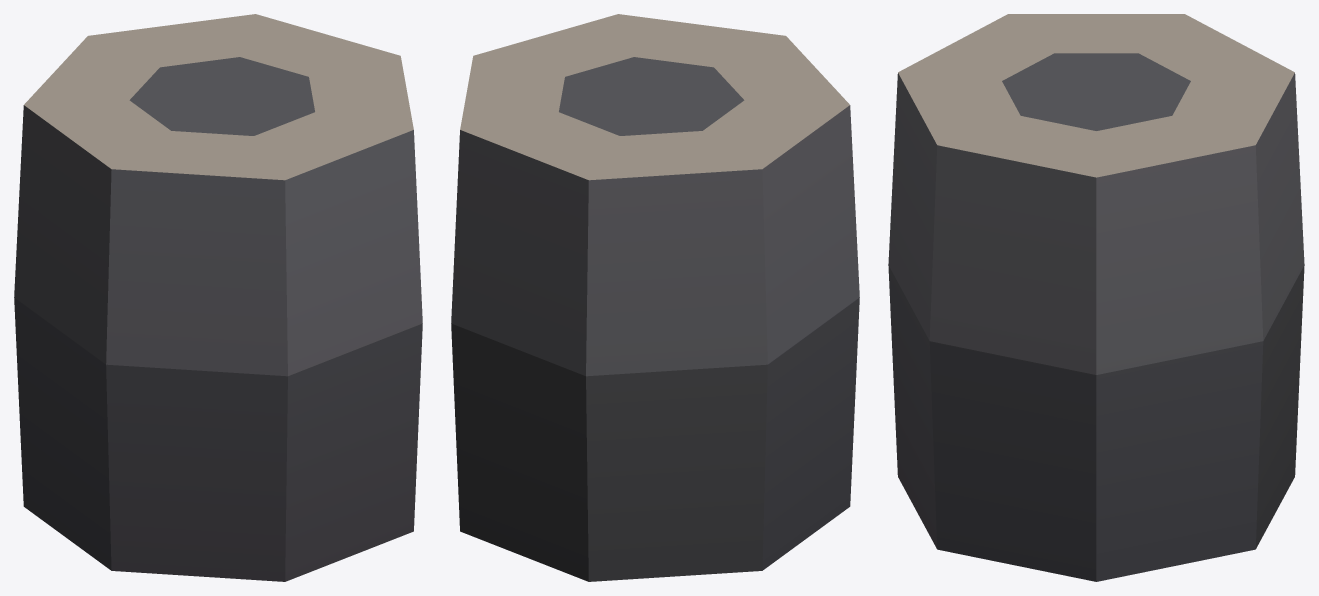
The model's file is tyres.lod2.glb.
3 views of the same model, side by side, from view 1: azimuth 30°, elevation 25°; view 2: azimuth 150°, elevation 25°; view 3: azimuth 270°, elevation 25° (orthographic).
Size of the model in its own units: 0.8364 by 0.923 by 0.858.
